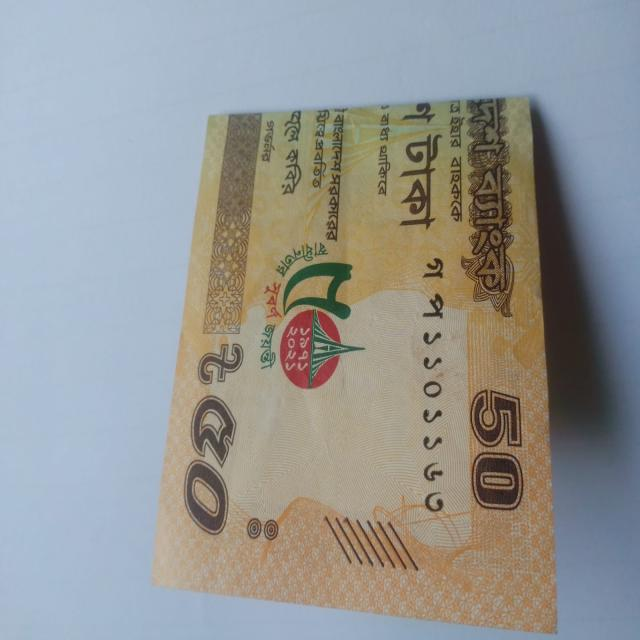Taka: (139, 81, 568, 633)
